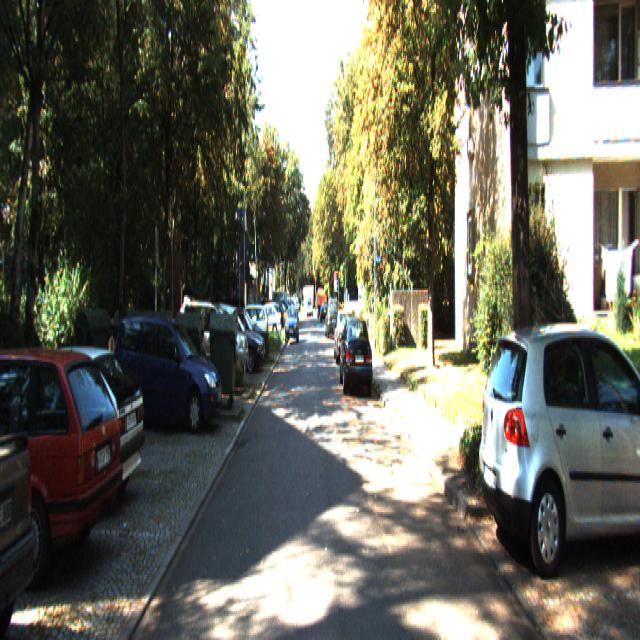Car: (476, 314, 640, 584), (0, 330, 127, 596), (0, 332, 147, 521), (112, 311, 224, 440), (177, 288, 249, 392), (206, 301, 265, 373), (338, 314, 374, 396), (334, 310, 356, 362)
